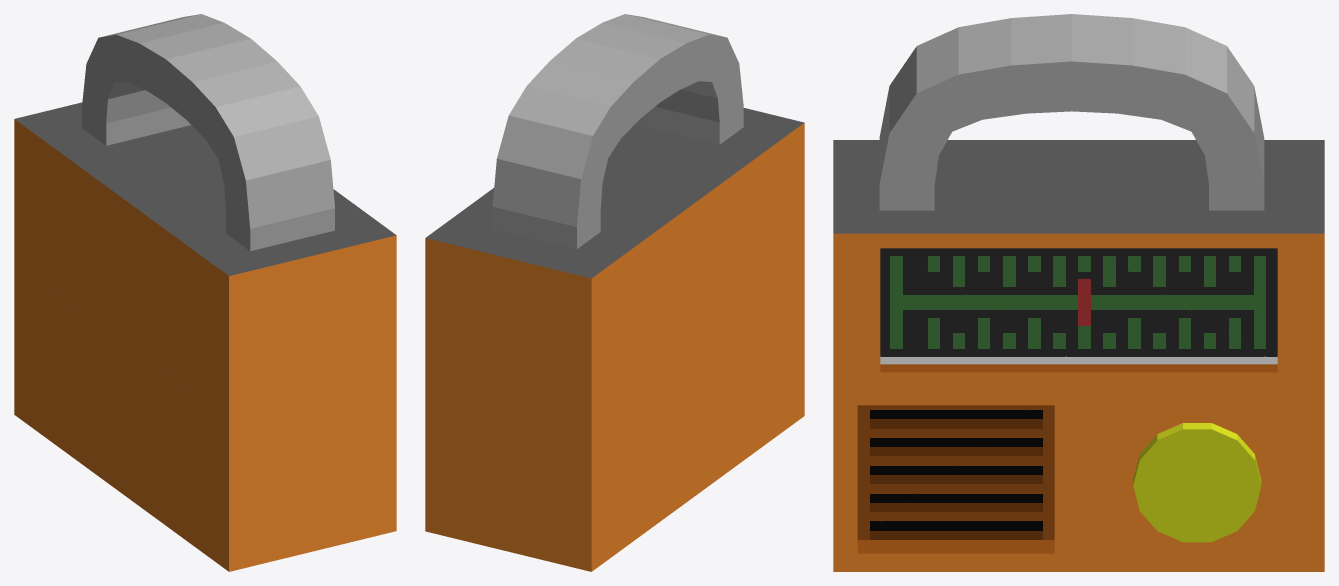
Rendered from Radio.fbx.
The picture shows the model from 3 angles, left to right: view 1: azimuth 30°, elevation 25°; view 2: azimuth 150°, elevation 25°; view 3: azimuth 270°, elevation 25°; orthographic projection. The views are drawn at different scales.
Parts seen in each view (by area): view 1: Cube.004; view 2: Cube.004; view 3: Cube.004.
Part boxes in pixels (x1,y1,x2,y2): Cube.004: (14, 14, 396, 571); Cube.004: (425, 14, 804, 571); Cube.004: (833, 14, 1324, 571).
Size of the model in its own units: 47.97 by 99.79 by 109.
1 material, 1 textured.
